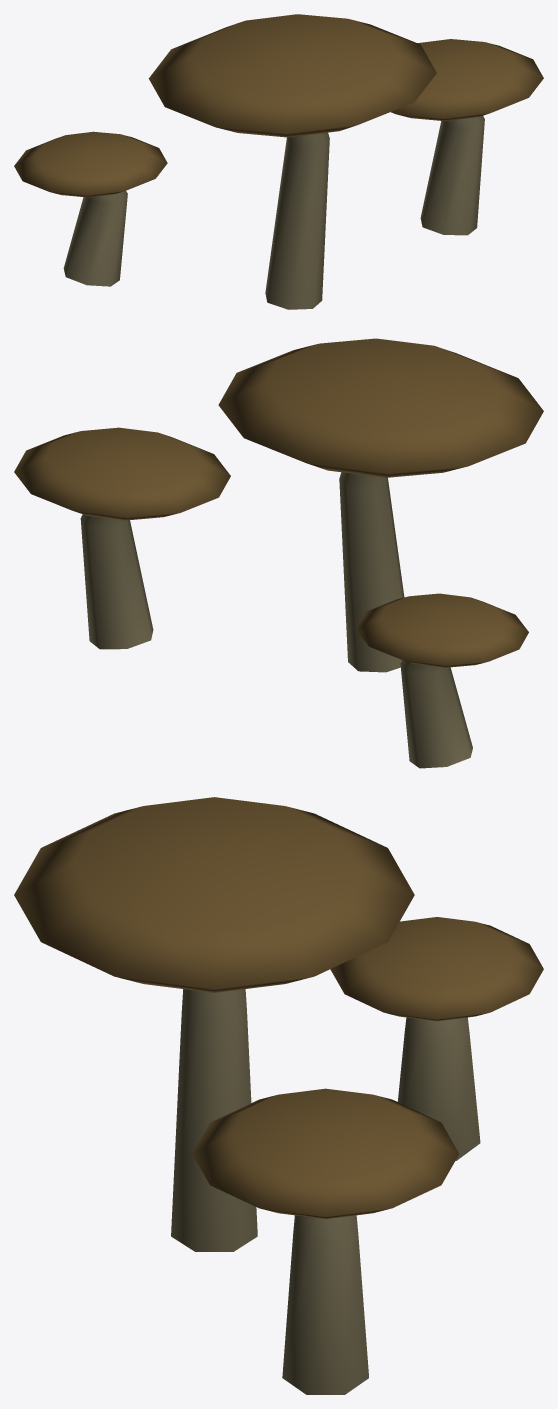
3 views of the same model, one above another, from view 1: azimuth 30°, elevation 25°; view 2: azimuth 150°, elevation 25°; view 3: azimuth 270°, elevation 25° (orthographic). The views are drawn at different scales.
Parts seen in each view (by area): view 1: Curved mushroom stalk; view 2: Curved mushroom stalk; view 3: Curved mushroom stalk.
Part boxes in pixels (box(x1,y1,x2,y2)): Curved mushroom stalk: box(14, 14, 543, 309); Curved mushroom stalk: box(14, 338, 543, 768); Curved mushroom stalk: box(14, 797, 543, 1394).
Size of the model in its own units: 2.22 by 1.15 by 1.43.
